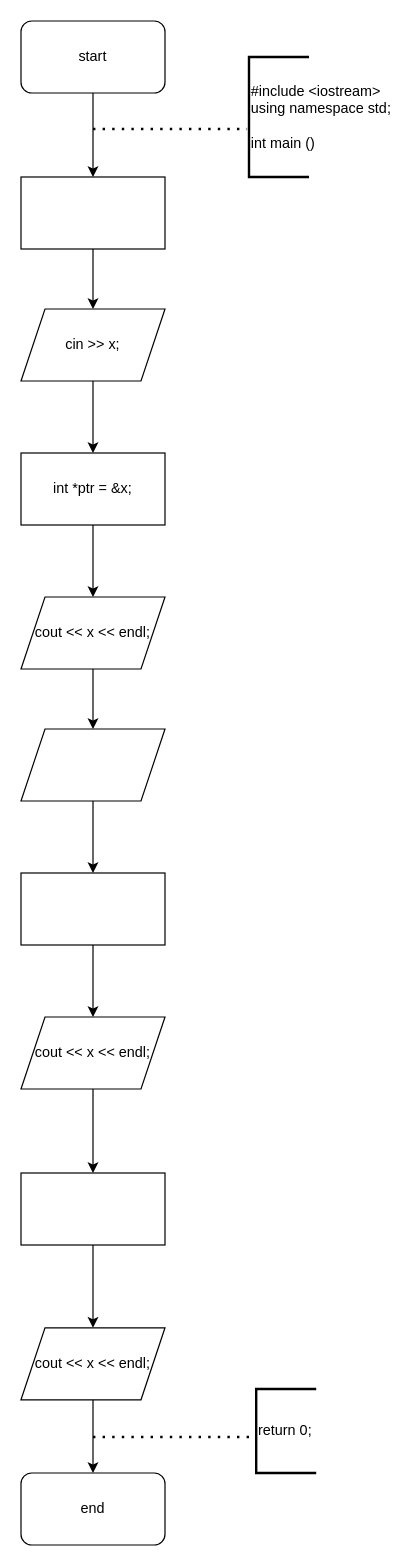
This 413x1566 diagram has some shape labels left out. Each missing label, with the centre of its shape:
"*ptr += 5;" goes at pixel 92 1208.
"*ptr = i;" goes at pixel 92 908.
"cin >> i;" goes at pixel 92 764.
"int x, i;" goes at pixel 92 212.
